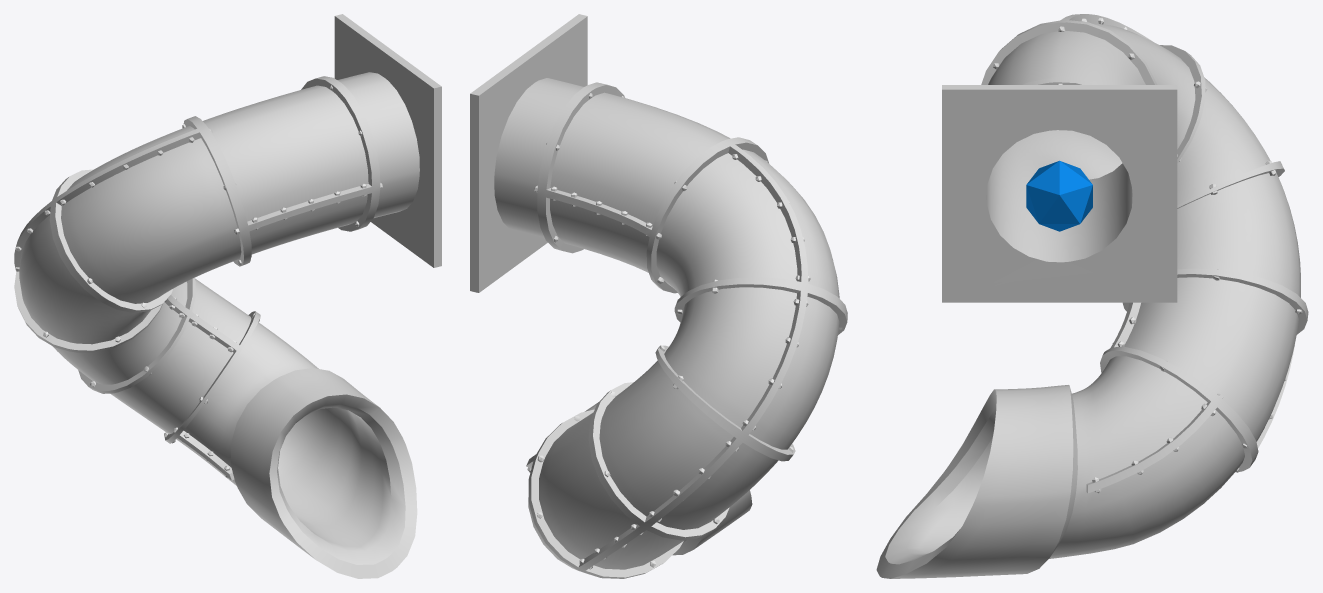
File: Turbo-Twister-Slider.glb
The picture shows the model from 3 angles, left to right: view 1: azimuth 30°, elevation 25°; view 2: azimuth 150°, elevation 25°; view 3: azimuth 270°, elevation 25°; orthographic projection. The views are drawn at different scales.
Parts seen in each view (by area): view 1: Turbo Twister Slider, Side winder slide.001; view 2: Turbo Twister Slider, Side winder slide.001; view 3: Turbo Twister Slider, Joint.040, Side winder slide.001.
Boxes of the visible parts, box(x1,y1,x2,y2) form: Turbo Twister Slider: box(14, 14, 441, 578); Side winder slide.001: box(15, 85, 382, 477); Turbo Twister Slider: box(470, 14, 847, 578); Side winder slide.001: box(527, 93, 843, 569); Turbo Twister Slider: box(876, 14, 1308, 578); Joint.040: box(1026, 160, 1092, 231); Side winder slide.001: box(993, 17, 1302, 493).
Size of the model in its own units: 1.81 by 2.29 by 1.68.
